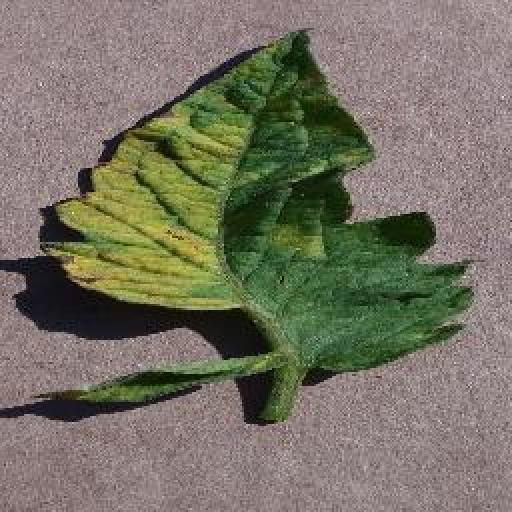Leaf Mold: (40, 27, 474, 373)
